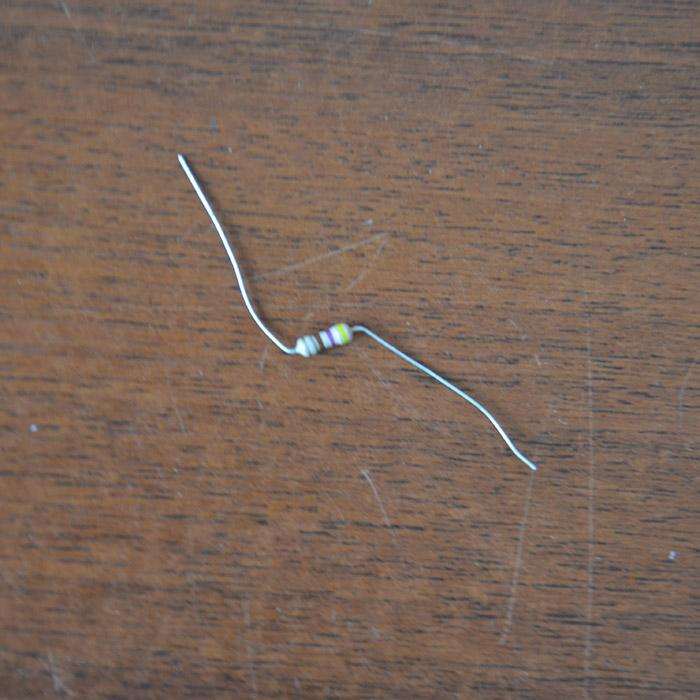resistor: (292, 321, 355, 358)
